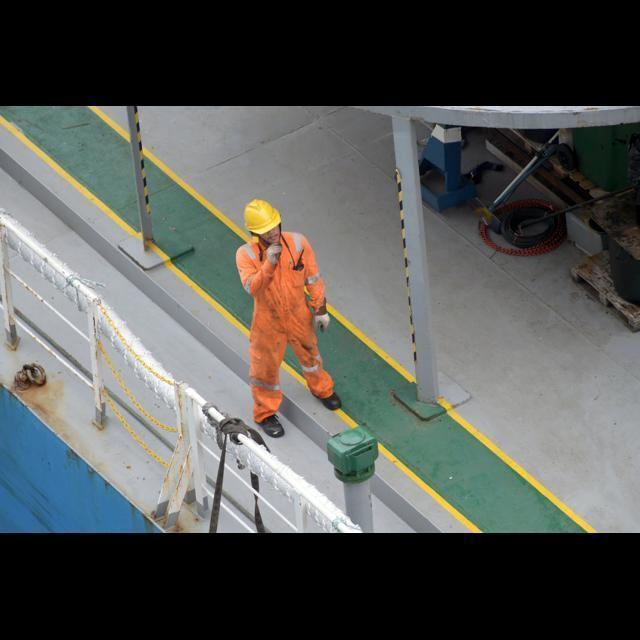helmet: (238, 176, 292, 232)
safety_vest: (228, 232, 342, 418)
